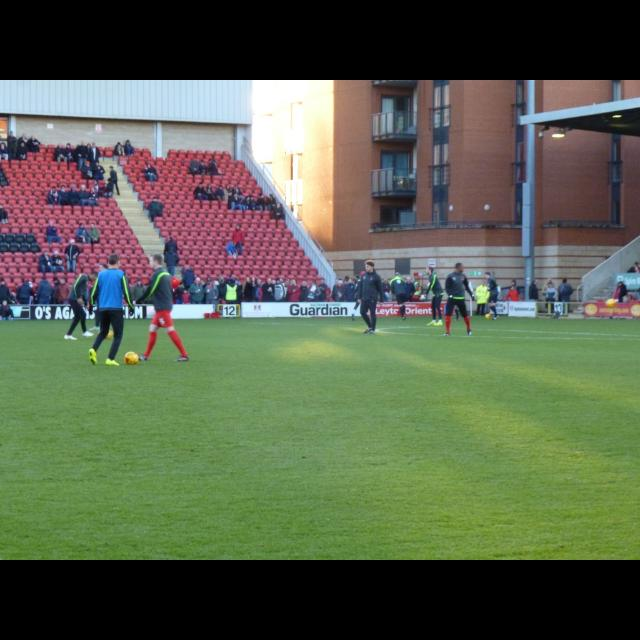Football: (123, 348, 141, 364), (480, 310, 496, 320)
